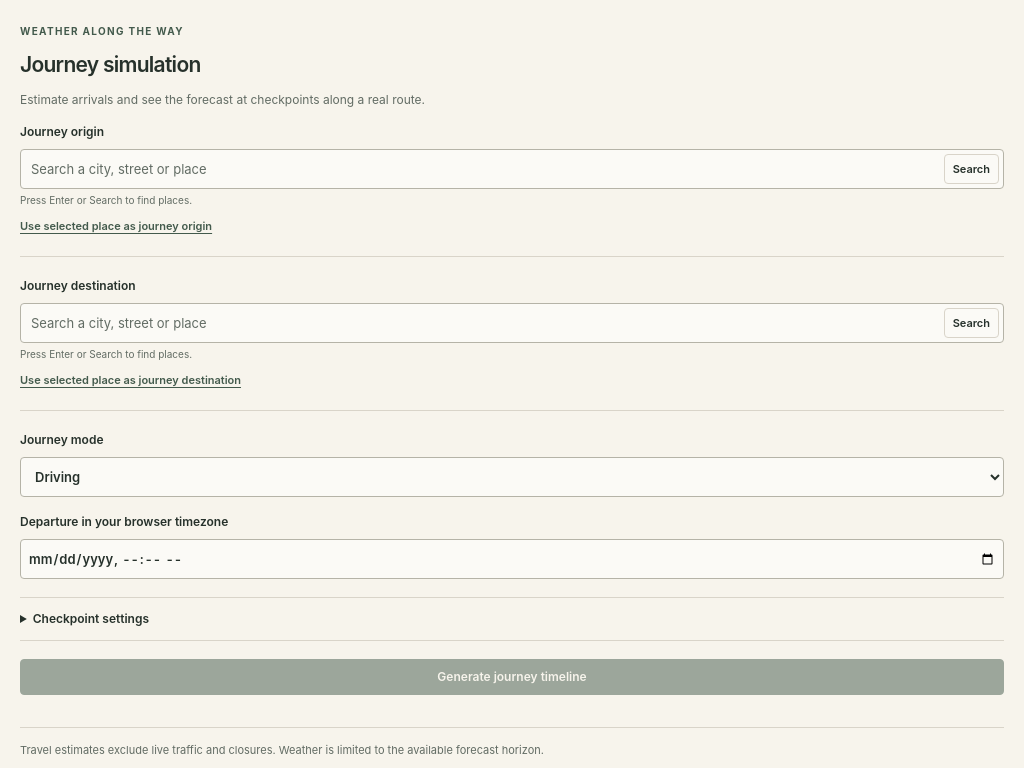
aborts an in-flight journey on input change and ignores its late response
Click the button "Use selected place as journey origin" at (116, 226), box [20, 212, 212, 240]
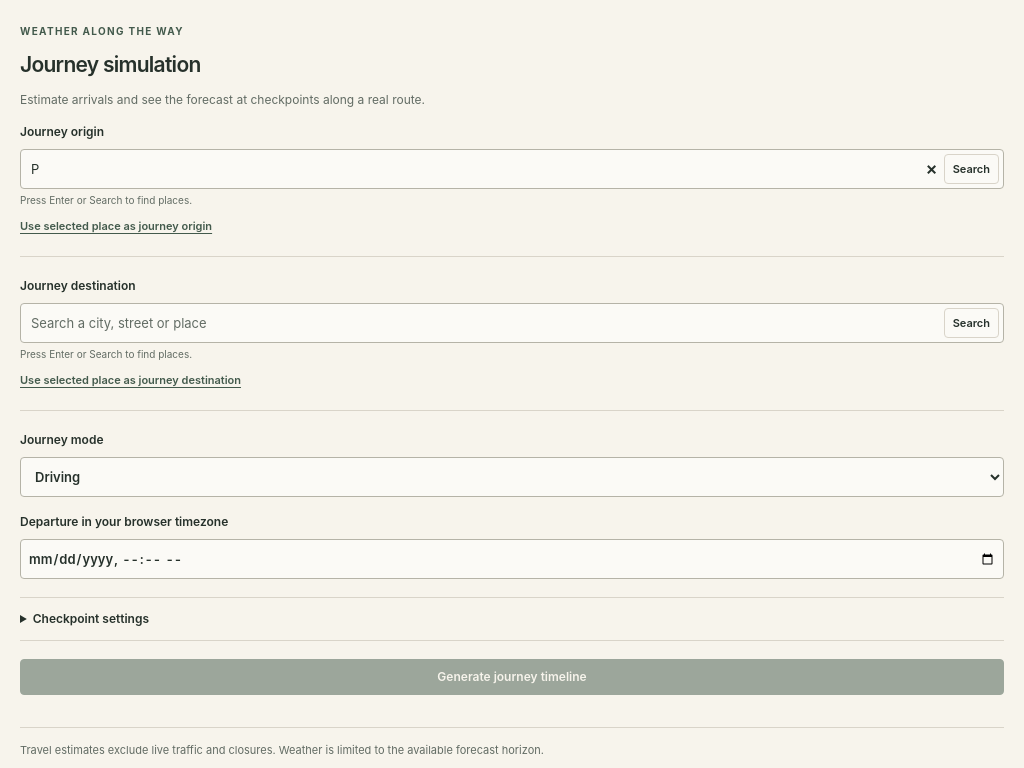
Click the button "Use selected place as journey destination" at (130, 380), box [20, 366, 241, 394]
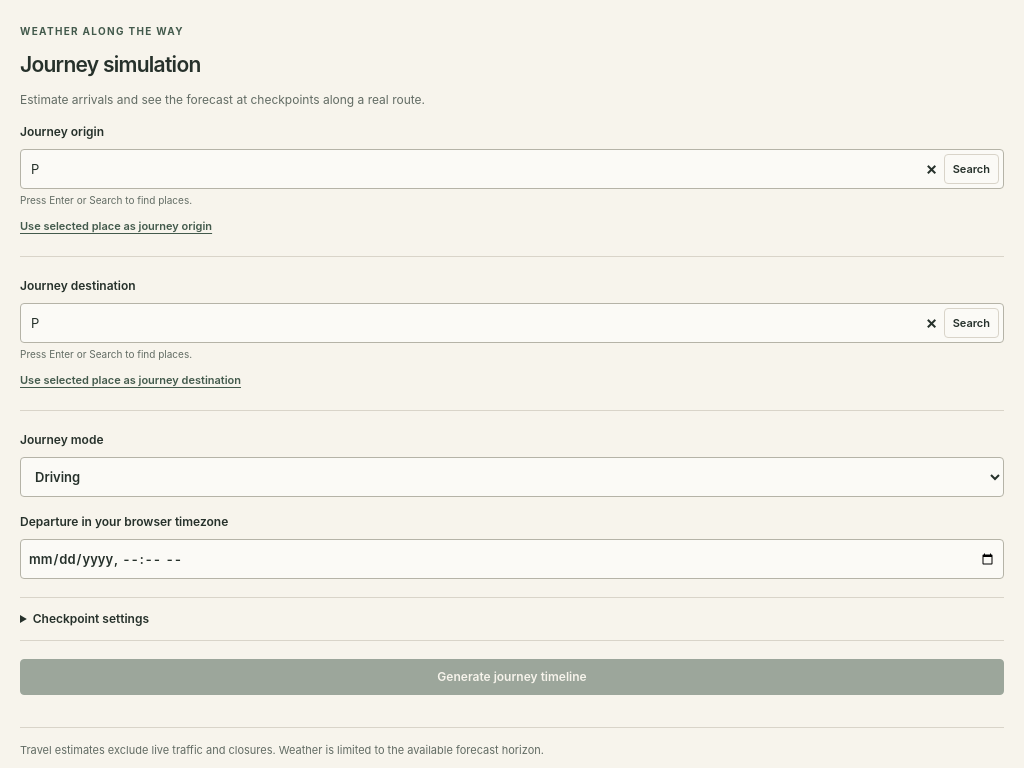
Type "2026-01-02T08:30" into the field labelled "Departure in your browser timezone" at (512, 560), box [20, 540, 1004, 580]
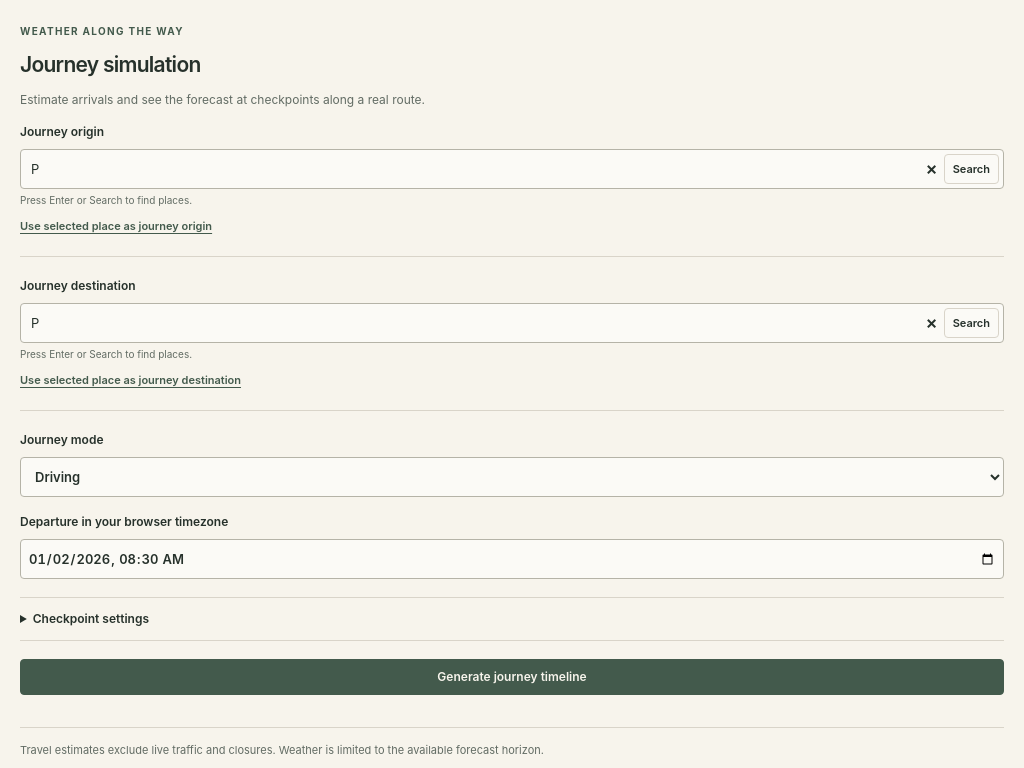
Click the button "Generate journey timeline" at (512, 678), box [20, 660, 1004, 696]
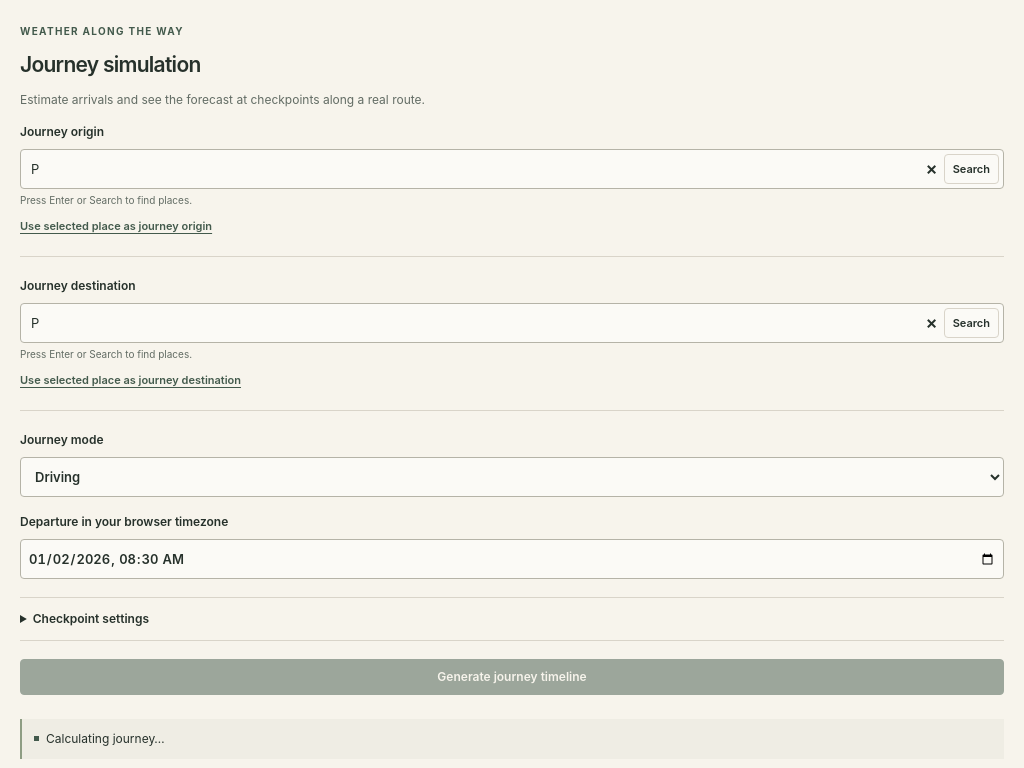
Select "Walking" in the dropdown labelled "Journey mode" at (512, 478), box [20, 458, 1004, 498]
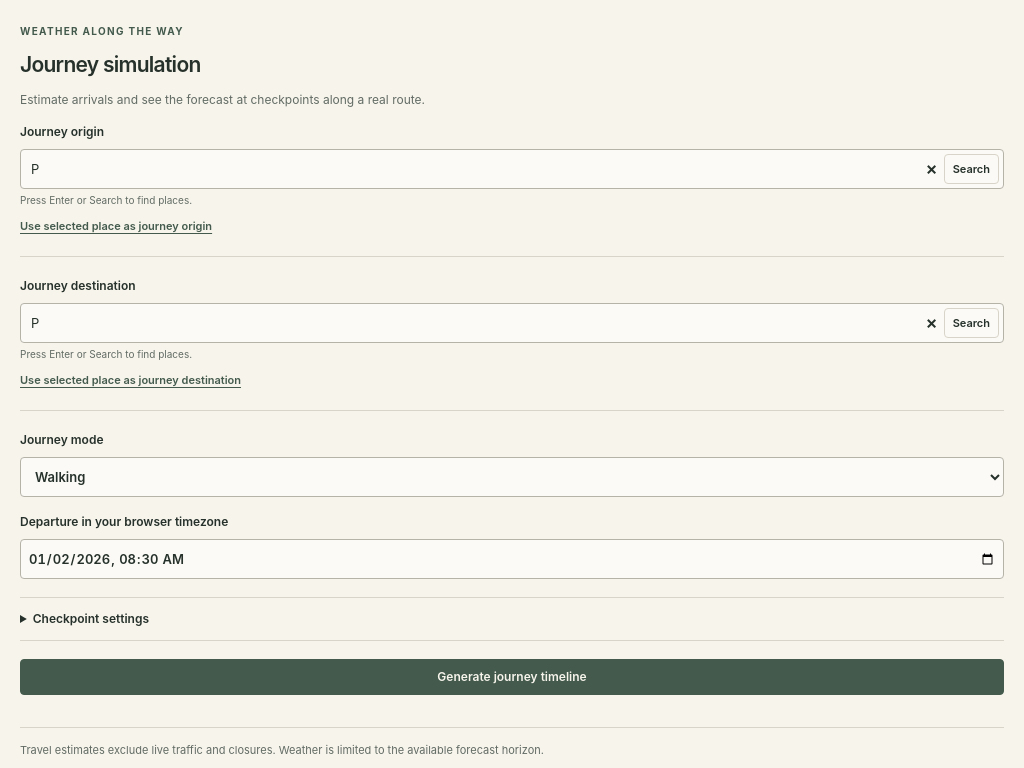
Result: the button "Generate journey timeline" is enabled at [20, 660, 1004, 696]
